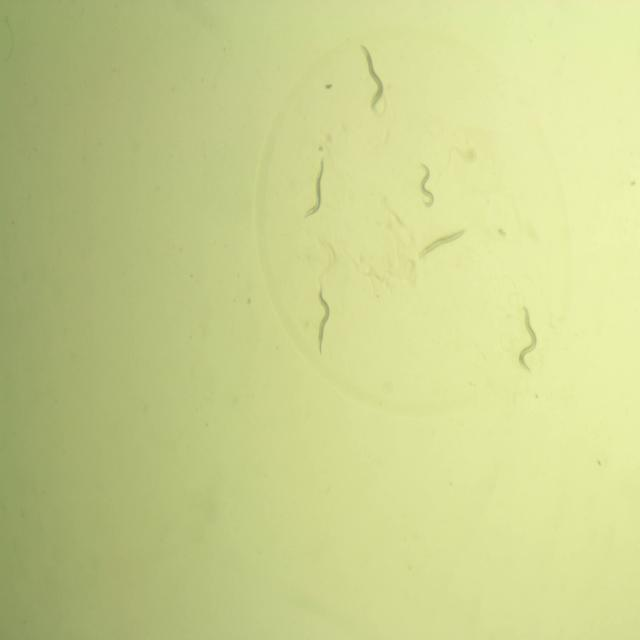worm: (414, 219, 470, 262), (512, 300, 541, 375), (357, 43, 387, 113), (302, 153, 328, 225), (310, 282, 332, 361), (414, 160, 438, 212)
